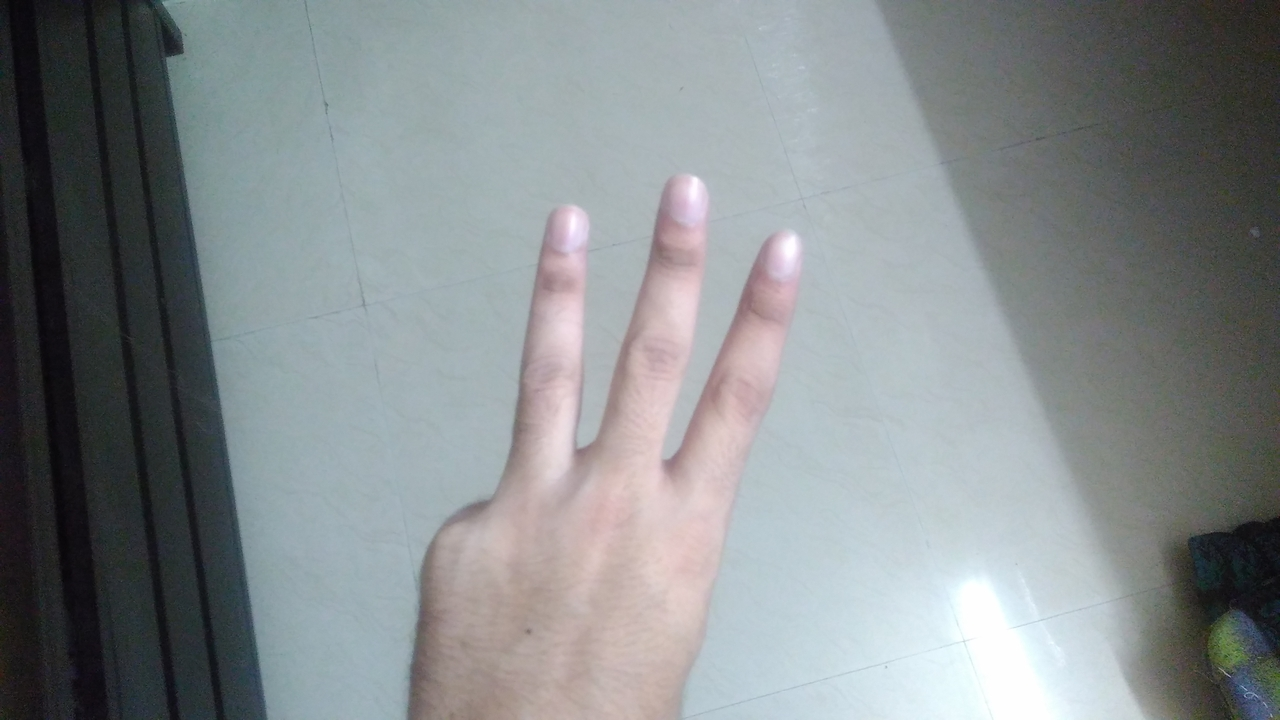fingertip: (750, 218, 812, 286), (652, 168, 716, 232), (536, 196, 596, 258)
